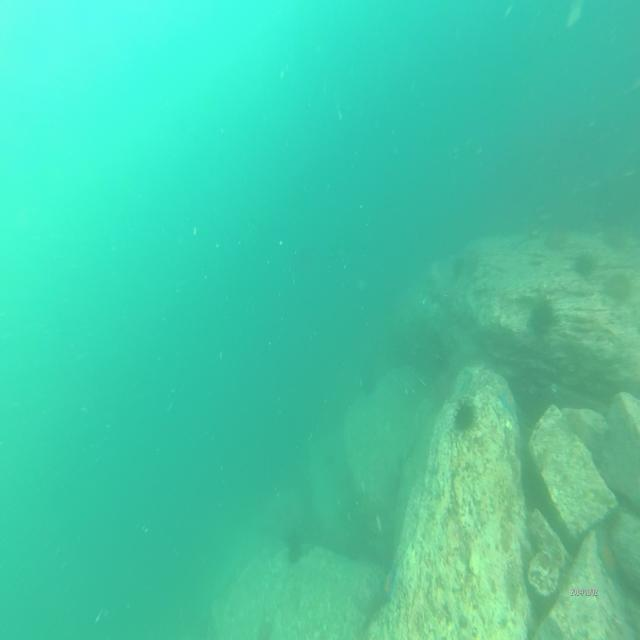echinus: (449, 398, 478, 431), (531, 301, 556, 336), (606, 271, 632, 303), (575, 250, 598, 276)
starfish: (496, 380, 518, 420), (598, 540, 618, 578)
